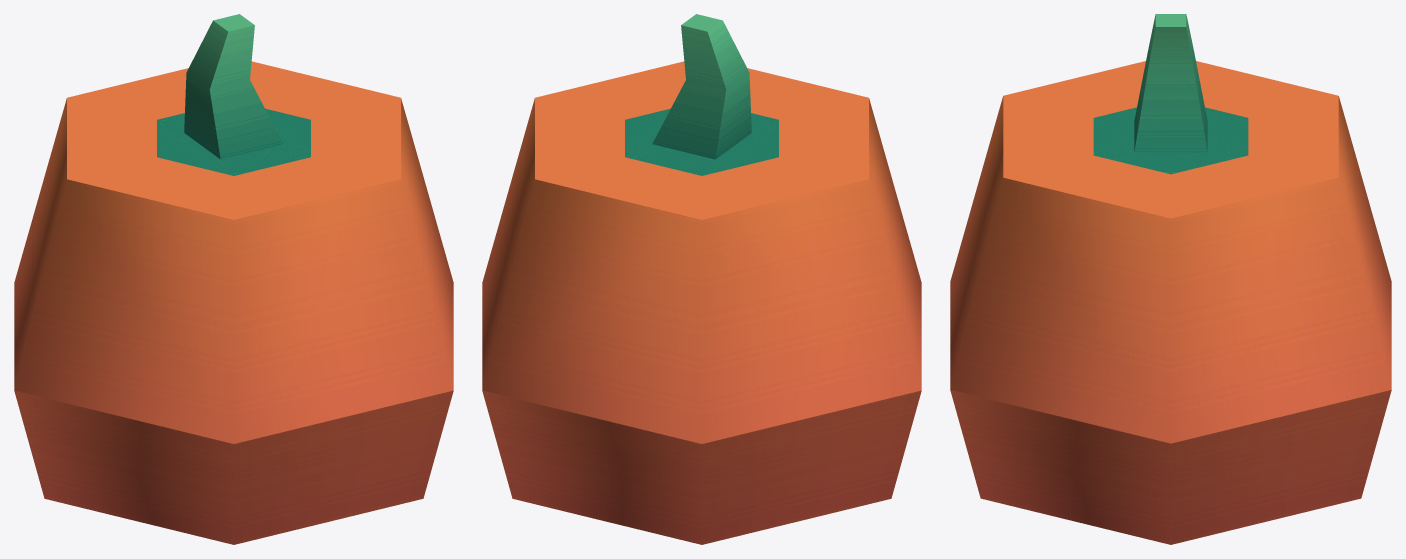
File: pumpkin-tall.glb
The picture shows the model from 3 angles, left to right: view 1: azimuth 30°, elevation 25°; view 2: azimuth 150°, elevation 25°; view 3: azimuth 270°, elevation 25°; orthographic projection.
Parts seen in each view (by area): view 1: pumpkin-tall; view 2: pumpkin-tall; view 3: pumpkin-tall.
Part boxes in pixels (x1,y1,x2,y2): pumpkin-tall: (14,14,453,544); pumpkin-tall: (482,14,921,544); pumpkin-tall: (950,14,1391,544).
Bounding box in the file's own units: 0.8352 × 0.78 × 0.7233.
1 material, 1 textured.
